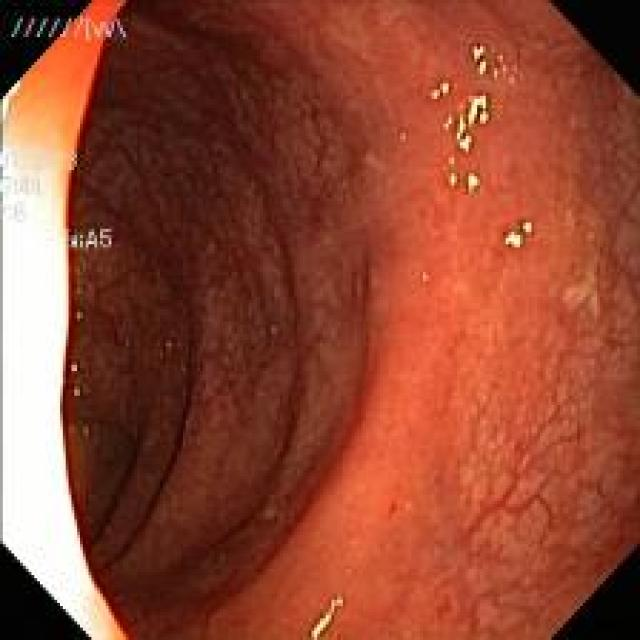ulcerative-colitis-grade-1: (451, 11, 640, 593), (145, 52, 353, 531), (88, 90, 144, 560)
